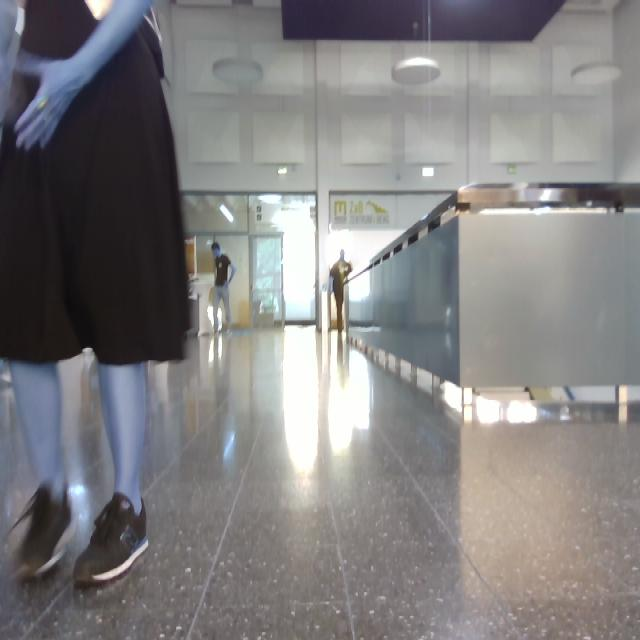door: (254, 238, 284, 327)
light bulb: (392, 58, 441, 85), (214, 59, 264, 84), (572, 64, 624, 85), (507, 401, 539, 424), (479, 398, 501, 424), (86, 1, 114, 20), (220, 204, 235, 224), (259, 196, 282, 205)
person: (1, 1, 189, 587), (212, 243, 237, 334), (331, 251, 354, 332)
staircase: (350, 185, 640, 389)
tiled floor: (1, 329, 640, 639)
